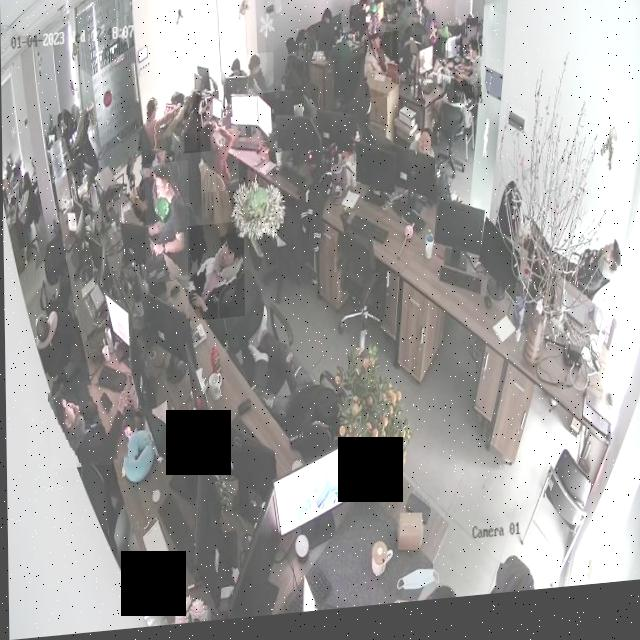person: (49, 379, 137, 471), (187, 226, 244, 325), (144, 164, 189, 286), (141, 92, 197, 158), (124, 152, 166, 228), (200, 122, 238, 197), (364, 39, 399, 106), (453, 45, 486, 116), (183, 94, 209, 157), (247, 57, 273, 99), (411, 0, 432, 44)
